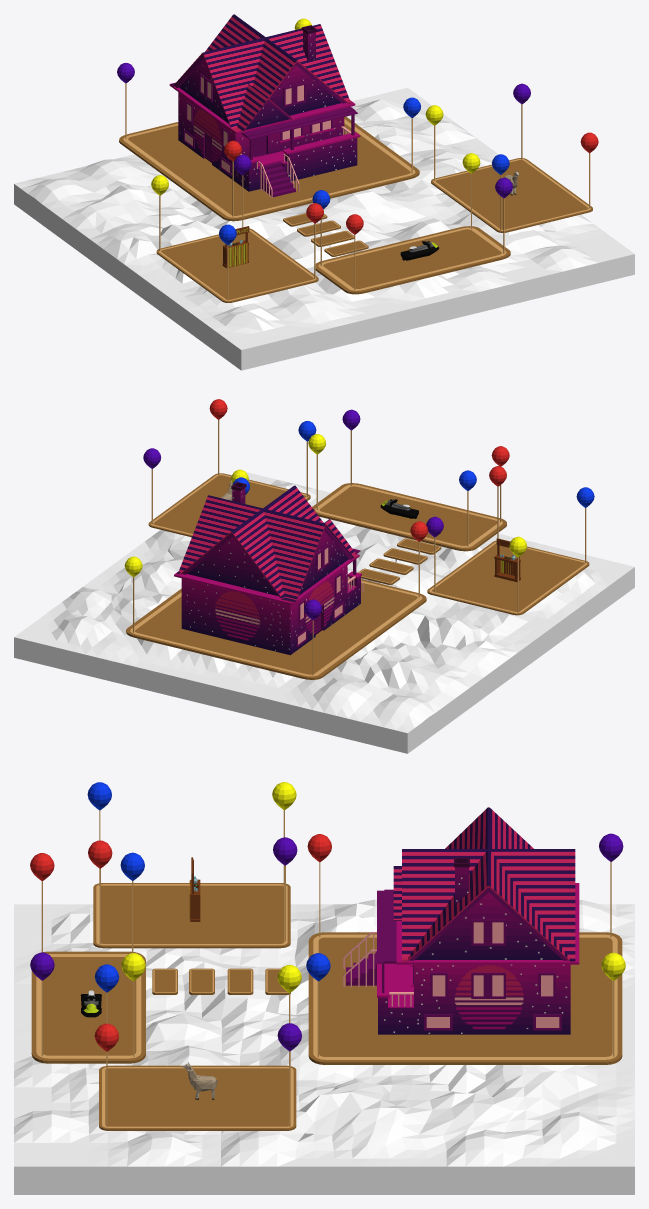
3 renders of one model, top to bottom at view 1: azimuth 30°, elevation 25°; view 2: azimuth 150°, elevation 25°; view 3: azimuth 270°, elevation 25°, orthographic. The views are drawn at different scales.
Parts seen in each view (by area): view 1: Cube.013, Cube.156, OBJRANDOM_LEMONADE_STAND; view 2: Cube.013, Cube.156, OBJRANDOM_LEMONADE_STAND; view 3: Cube.013, Cube.156, OBJRANDOM_LEMONADE_STAND.
Boxes of the visible parts, x1=… form: Cube.013: x1=14, y1=18, x2=634, y2=370; Cube.156: x1=169, y1=14, x2=360, y2=198; OBJRANDOM_LEMONADE_STAND: x1=222, y1=226, x2=249, y2=268; Cube.013: x1=14, y1=399, x2=634, y2=753; Cube.156: x1=174, y1=482, x2=363, y2=655; OBJRANDOM_LEMONADE_STAND: x1=494, y1=538, x2=520, y2=581; Cube.013: x1=14, y1=782, x2=634, y2=1194; Cube.156: x1=343, y1=807, x2=579, y2=1034; OBJRANDOM_LEMONADE_STAND: x1=189, y1=857, x2=200, y2=921.
Bounding box in the file's own units: 4000 × 1696 × 4000.
31 materials, 3 textured.
